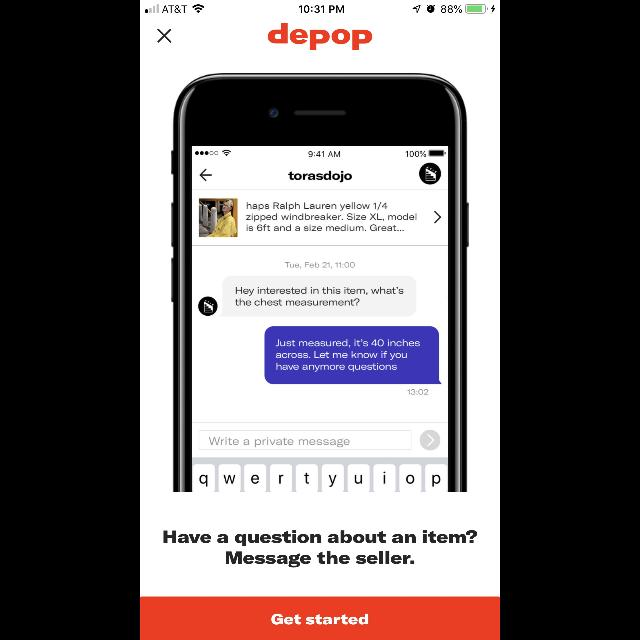icon: (157, 29, 171, 43)
image: (171, 74, 469, 492)
text: (164, 530, 478, 568), (268, 24, 372, 51)
textbutton: (140, 596, 500, 640)
uppertaskbar: (140, 0, 500, 14)
